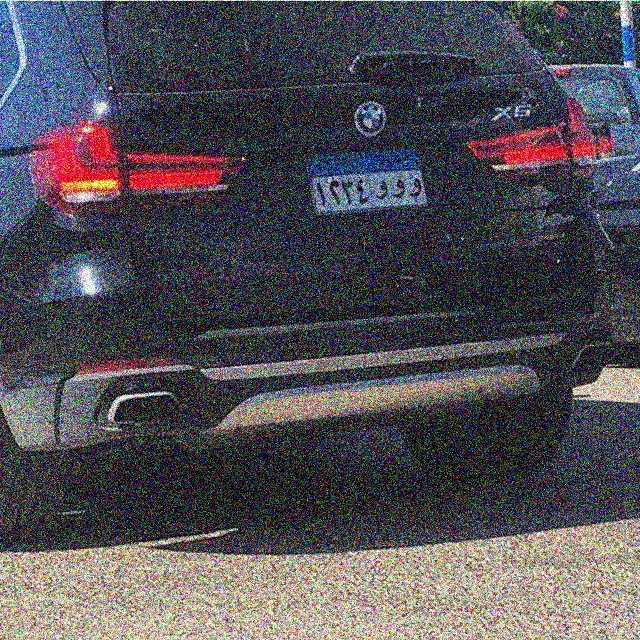License Plate: (301, 147, 433, 218)
